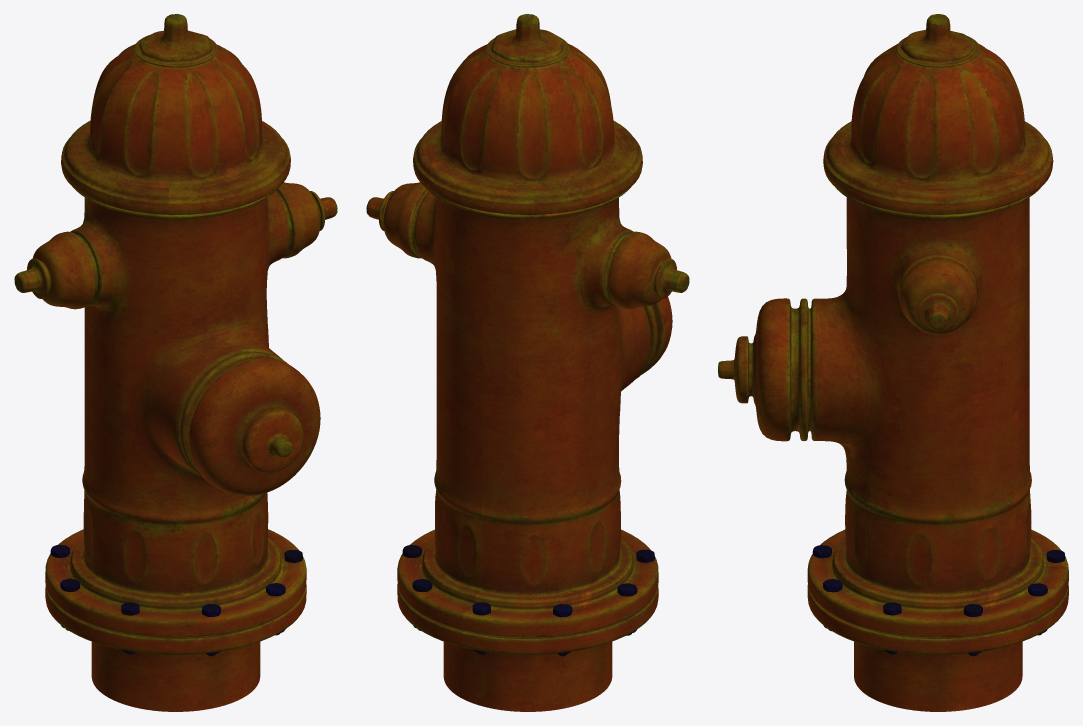
Rendered from water-paal.glb.
The picture shows the model from 3 angles, left to right: view 1: azimuth 30°, elevation 25°; view 2: azimuth 150°, elevation 25°; view 3: azimuth 270°, elevation 25°; orthographic projection.
Visible parts, largest first — view 1: hydrante; view 2: hydrante; view 3: hydrante.
Boxes of the visible parts, x1=… form: hydrante: x1=14, y1=14, x2=337, y2=711; hydrante: x1=366, y1=14, x2=689, y2=711; hydrante: x1=718, y1=14, x2=1068, y2=711.
Size of the model in its own units: 0.4109 by 0.8202 by 0.3958.
1 material, 1 textured.
